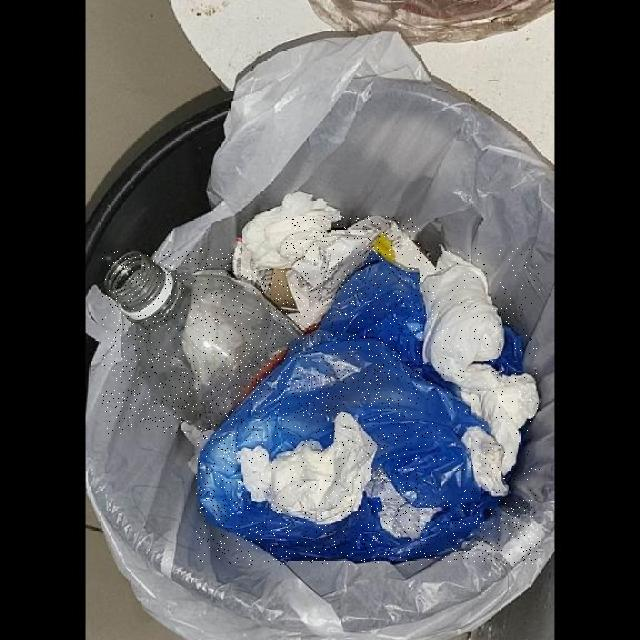paper: (422, 248, 540, 497), (285, 216, 419, 335), (239, 414, 378, 525), (243, 192, 342, 269)
plastic: (197, 249, 540, 565), (103, 252, 303, 434)
